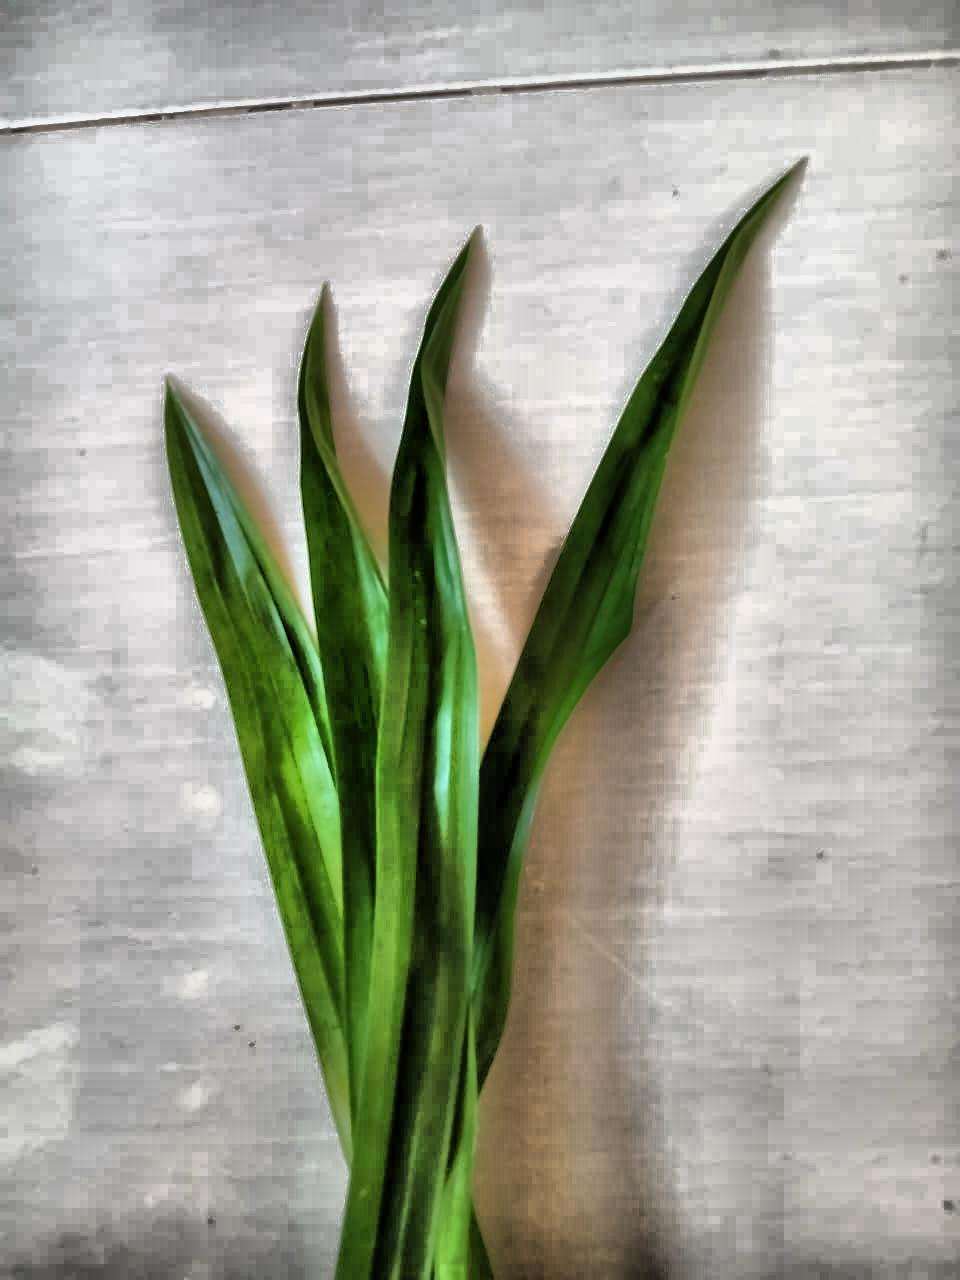daun pandan: (166, 175, 790, 1279)
